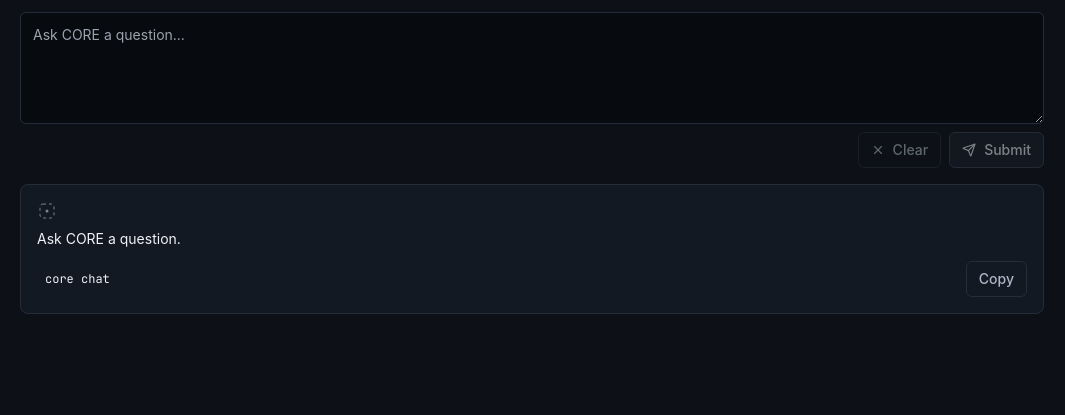
ChatRoute › renders ErrorState fields on WorkbenchApiError
Type "x" into the text box with placeholder "Ask CORE a question..." at point(532, 68), box [20,12,1044,124]
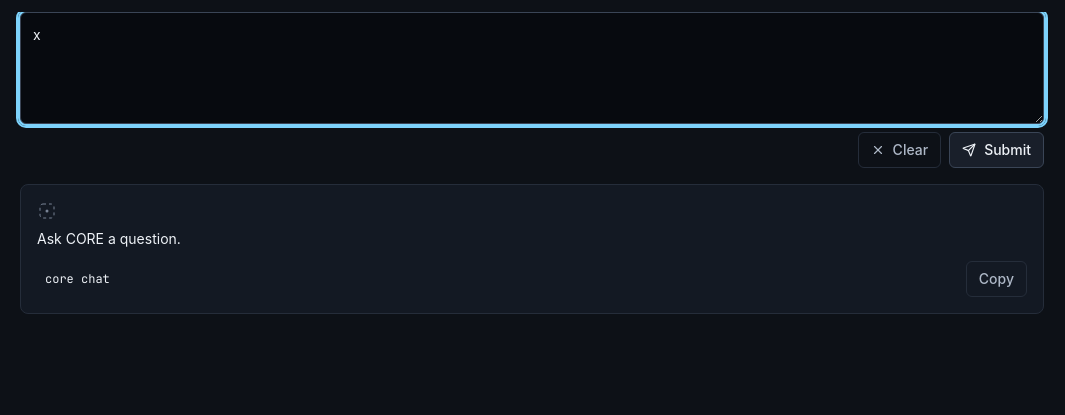
Click the button "Submit" at point(997, 150), box [949,132,1044,168]
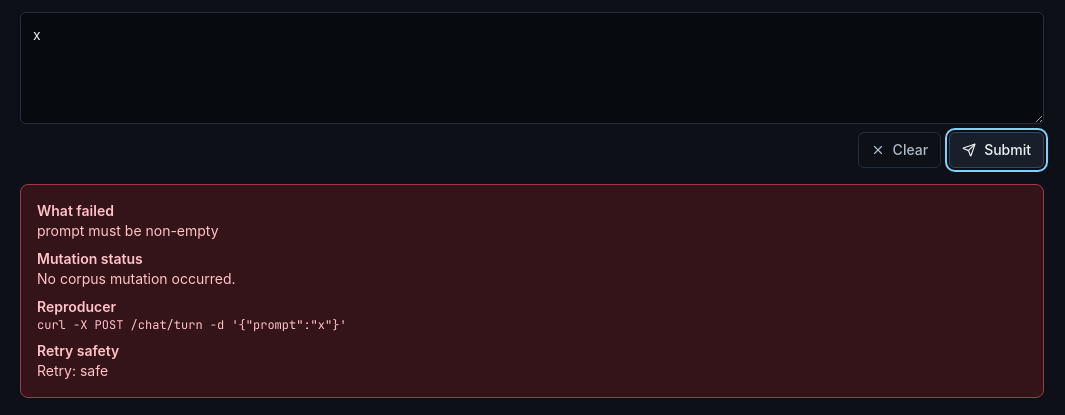
Expected: the text "What failed" is shown, [37,202,114,219]
Expected: the text "Mutation status" is shown, [37,250,143,267]
Expected: the text "Reproducer" is shown, [37,298,116,315]
